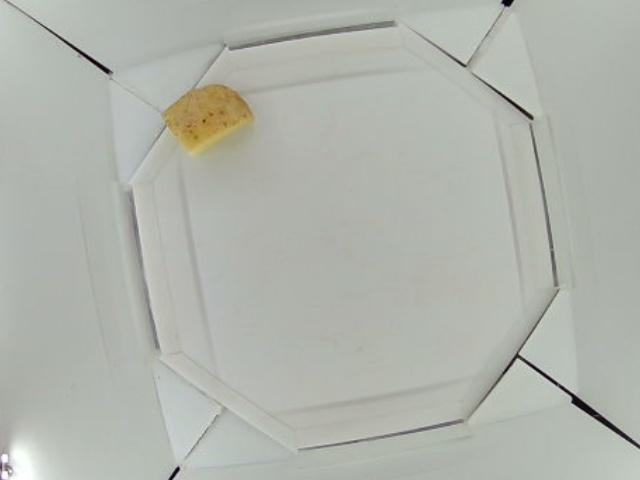Potato: (165, 84, 251, 153)
